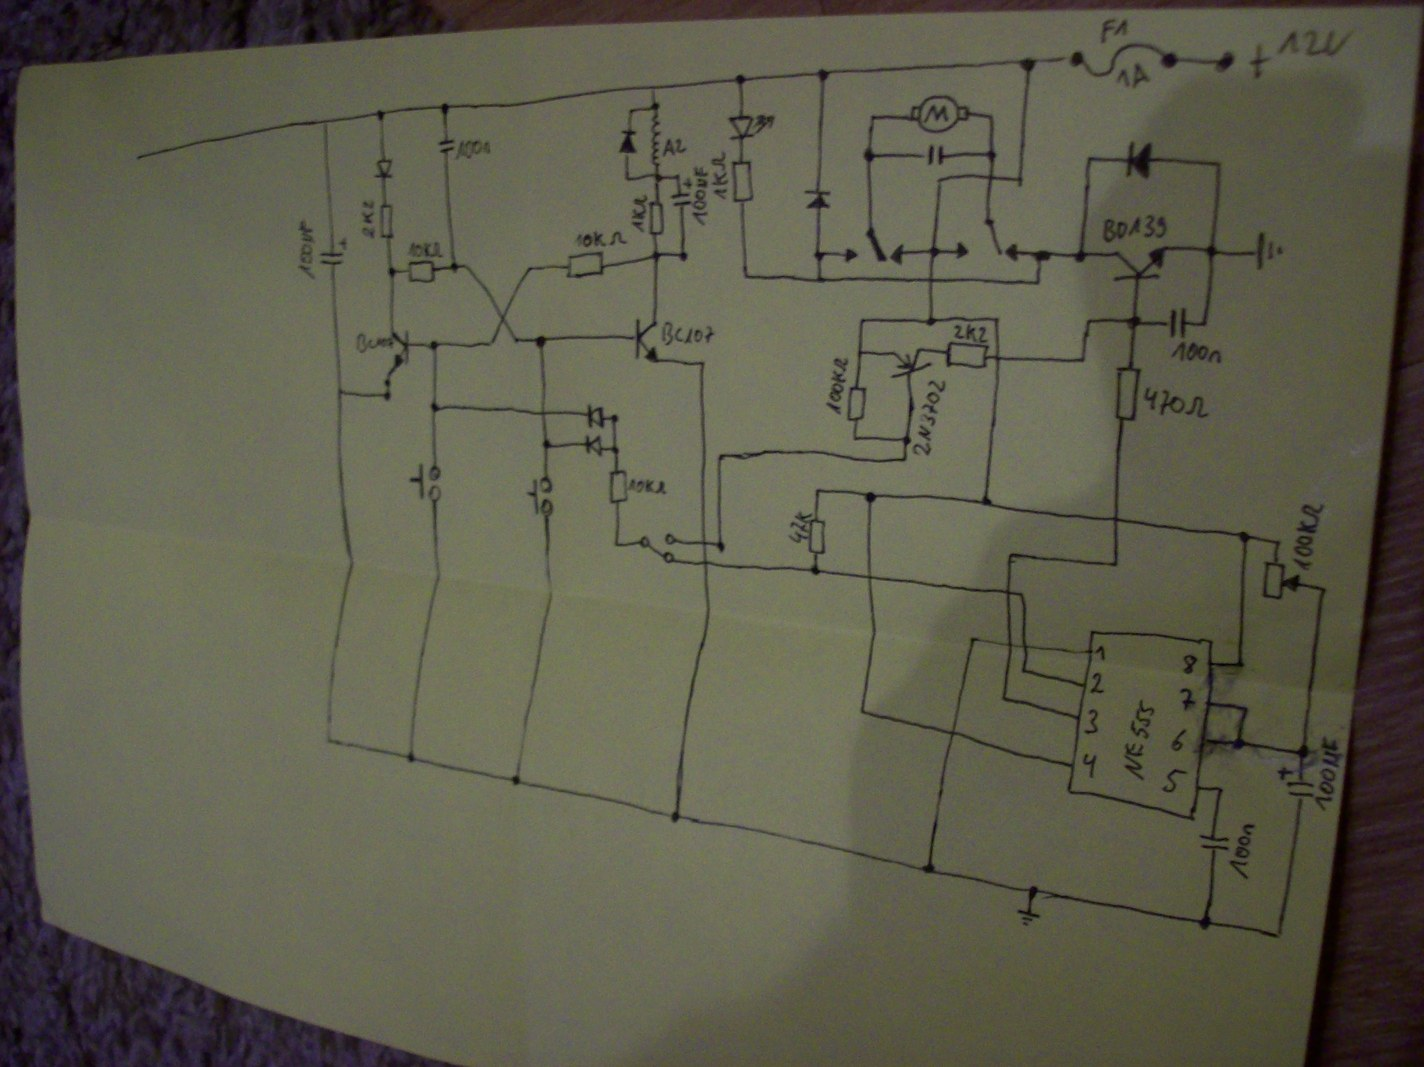capacitor.polarized: (1276, 766, 1315, 802), (319, 236, 350, 266), (671, 179, 694, 208)
capacitor.unpolarized: (1161, 307, 1190, 338), (1197, 831, 1234, 854), (921, 143, 948, 167), (437, 138, 456, 154)
crossover: (862, 570, 879, 582), (496, 312, 509, 325), (699, 557, 711, 569), (925, 273, 937, 286), (992, 353, 1004, 364), (1020, 641, 1032, 652), (1002, 586, 1013, 599), (699, 537, 711, 548), (1004, 640, 1015, 651), (948, 727, 959, 739), (538, 408, 549, 419), (1110, 514, 1121, 525), (986, 173, 996, 183)
diode: (1123, 140, 1154, 182), (802, 188, 832, 211), (617, 127, 639, 157), (586, 403, 607, 429), (584, 433, 605, 458), (373, 157, 394, 180)
diode.light_emitting: (726, 113, 776, 141)
fuse: (1059, 41, 1181, 78)
gnd: (1251, 230, 1286, 272), (1016, 907, 1041, 928)
inductor: (649, 113, 663, 168)
integrated_cricuit.ne555: (1065, 629, 1214, 822)
junction: (1197, 913, 1214, 933), (1017, 56, 1037, 73), (1032, 249, 1053, 263), (666, 808, 683, 824), (1231, 735, 1247, 752), (920, 860, 936, 876), (1125, 315, 1143, 330), (1072, 249, 1088, 265), (1026, 884, 1040, 902), (863, 148, 877, 164), (1295, 744, 1310, 760), (816, 68, 831, 82), (404, 750, 418, 766), (985, 148, 998, 163), (927, 245, 941, 259), (863, 491, 877, 504), (979, 497, 994, 510), (1237, 530, 1251, 544), (509, 773, 523, 787), (734, 73, 747, 86), (534, 335, 548, 349), (428, 400, 441, 414), (439, 102, 453, 115), (1108, 557, 1121, 570), (1013, 175, 1027, 187), (923, 316, 938, 328), (1206, 244, 1218, 259), (809, 563, 821, 577), (813, 249, 826, 262), (650, 249, 662, 262), (374, 108, 387, 121), (1234, 657, 1246, 670), (857, 706, 869, 720), (652, 171, 664, 184), (1212, 159, 1225, 171), (428, 338, 440, 351), (998, 692, 1011, 704), (323, 734, 335, 746), (813, 275, 827, 286), (741, 271, 754, 282), (678, 250, 689, 263), (901, 434, 912, 446), (1198, 317, 1210, 328), (1240, 703, 1251, 715), (967, 633, 979, 644), (1272, 929, 1284, 940), (609, 444, 621, 456), (716, 449, 727, 462), (715, 540, 726, 553), (382, 390, 393, 401), (387, 267, 398, 278), (320, 117, 332, 128), (541, 439, 552, 451), (649, 101, 661, 111), (449, 261, 459, 273), (858, 316, 869, 326), (1077, 354, 1087, 365), (1085, 154, 1095, 165), (697, 358, 707, 369), (460, 262, 472, 272), (1006, 550, 1016, 562), (1017, 590, 1029, 600), (1273, 538, 1284, 548), (813, 486, 823, 497), (850, 433, 860, 443), (899, 454, 909, 464), (986, 112, 996, 122), (612, 539, 622, 549), (672, 171, 683, 180), (622, 174, 633, 183), (1214, 785, 1226, 794), (609, 412, 618, 424), (869, 113, 878, 123), (856, 347, 865, 358), (992, 315, 1002, 324), (1033, 277, 1042, 287), (335, 386, 344, 396), (486, 338, 496, 347), (525, 265, 536, 273), (1020, 665, 1029, 675), (936, 176, 944, 185), (1085, 317, 1093, 326), (648, 84, 658, 92), (627, 106, 635, 115), (513, 336, 521, 344)
motor: (908, 93, 971, 134)
resistor: (1114, 363, 1142, 423), (943, 341, 990, 370), (730, 158, 757, 205), (565, 250, 606, 278), (846, 386, 868, 423), (808, 517, 827, 556), (406, 260, 436, 285), (608, 468, 629, 505), (378, 202, 395, 241), (648, 200, 666, 236)
resistor.adjustable: (1260, 558, 1328, 603)
switch: (953, 217, 1021, 263), (843, 226, 905, 267), (408, 462, 444, 504), (635, 531, 678, 567), (525, 476, 558, 517)
terminal: (1212, 49, 1236, 74), (133, 151, 148, 163)
text: (1247, 28, 1352, 78), (1121, 698, 1155, 781), (912, 379, 946, 457), (1291, 502, 1327, 573), (1142, 386, 1210, 420), (1100, 213, 1169, 244), (1314, 736, 1342, 811), (1228, 822, 1256, 881), (823, 358, 849, 416), (1170, 340, 1225, 367), (295, 219, 318, 281), (660, 321, 715, 347), (691, 166, 710, 226), (710, 151, 730, 201), (574, 230, 629, 248), (1116, 62, 1151, 90), (354, 332, 394, 354), (1096, 17, 1129, 44), (787, 511, 813, 544), (455, 139, 492, 160), (1161, 767, 1189, 794), (629, 477, 668, 497), (406, 240, 444, 259), (953, 323, 989, 343), (359, 200, 376, 240), (630, 195, 648, 233), (1083, 708, 1101, 736), (1081, 752, 1099, 779), (662, 137, 686, 157), (1169, 729, 1189, 752), (1178, 687, 1195, 712), (1089, 671, 1106, 695), (1182, 653, 1198, 676), (1093, 644, 1107, 661)
transistor: (1113, 245, 1167, 282), (631, 318, 661, 365), (888, 347, 932, 380), (384, 330, 413, 375)
